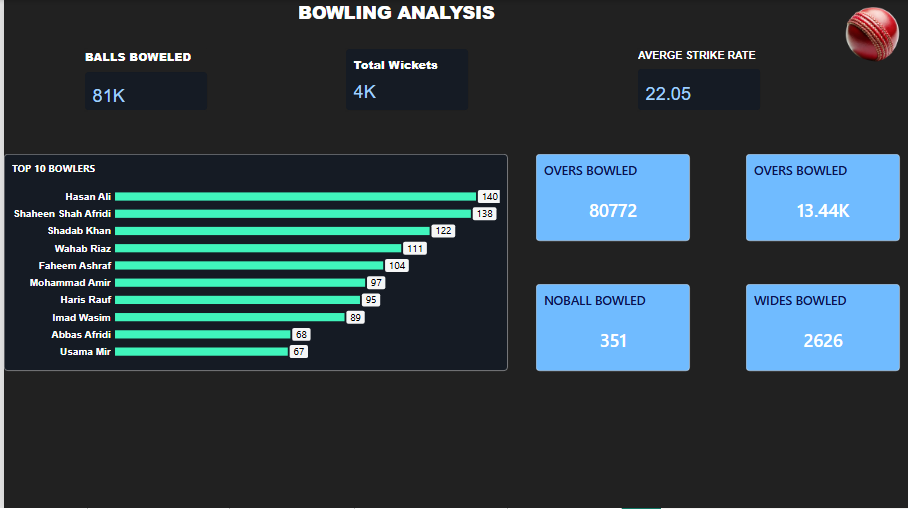

Layout of this report page (visuals, bound fields, positions):
{"tool":"powerbi","page":{"name":"BOWLING ANALYSIS","canvas":[1920,1080],"ordinal":3},"visuals":[{"type":"textbox","box":[625,0,461.3,55.3],"z":0},{"type":"cardVisual","title":"BALLS BOWELED","fields":{"Data":["Sum(PSL_players.balls_bowled)"]},"box":[172.2,104.2,260,130],"z":1},{"type":"cardVisual","fields":{"Data":["PSL_ball_by_ball_merged.Total Wickets"]},"box":[727.1,104.2,260,130],"z":2},{"type":"cardVisual","title":"AVERGE STRIKE RATE","fields":{"Data":["Avg(PSL_players.bowling_strike_rate)"]},"box":[1347.9,104.2,260,130],"z":3},{"type":"clusteredBarChart","title":"TOP 10 BOWLERS","fields":{"Category":["PSL_ball_by_ball_merged.bowler"],"Y":["PSL_ball_by_ball_merged.Bowler wicket"]},"box":[0,327.4,1071.5,461.3],"z":4},{"type":"kpi","title":"OVERS BOWLED","fields":{"Indicator":["Sum(PSL_players.overs_bowled)"],"TrendLine":["PSL_match_info.date.Variation.Date Hierarchy.Year"]},"box":[1577.5,327.4,327.4,185],"z":5},{"type":"kpi","title":"WIDES BOWLED","fields":{"Indicator":["Sum(PSL_players.wides_bowled)"],"TrendLine":["PSL_match_info.date.Variation.Date Hierarchy.Year"]},"box":[1577.5,603.8,327.4,185],"z":6},{"type":"kpi","title":"NOBALL BOWLED","fields":{"Indicator":["Sum(PSL_players.noballs_bowled)"],"TrendLine":["PSL_match_info.date.Variation.Date Hierarchy.Year"]},"box":[1131,603.8,327.4,185],"z":7},{"type":"kpi","title":"OVERS BOWLED","fields":{"Indicator":["Sum(PSL_players.balls_bowled)"],"TrendLine":["PSL_match_info.date.Variation.Date Hierarchy.Year"]},"box":[1131,327.4,327.4,185],"z":8},{"type":"image","box":[1773.1,0,146.7,157.3],"z":9}]}

Visuals, with their boxes in screenshot pixels (x1, y1, x2, y2), scaled from the page's 1920x1080 canvas onto the 908x509 screenshot:
textbox: bbox(296, 0, 514, 26)
"BALLS BOWELED" cardVisual: bbox(81, 49, 204, 110)
cardVisual - PSL_ball_by_ball_merged.Total Wickets: bbox(344, 49, 467, 110)
"AVERGE STRIKE RATE" cardVisual: bbox(637, 49, 760, 110)
"TOP 10 BOWLERS" clusteredBarChart: bbox(0, 154, 507, 372)
"OVERS BOWLED" kpi: bbox(746, 154, 901, 241)
"WIDES BOWLED" kpi: bbox(746, 285, 901, 372)
"NOBALL BOWLED" kpi: bbox(535, 285, 690, 372)
"OVERS BOWLED" kpi: bbox(535, 154, 690, 241)
image: bbox(839, 0, 907, 74)
